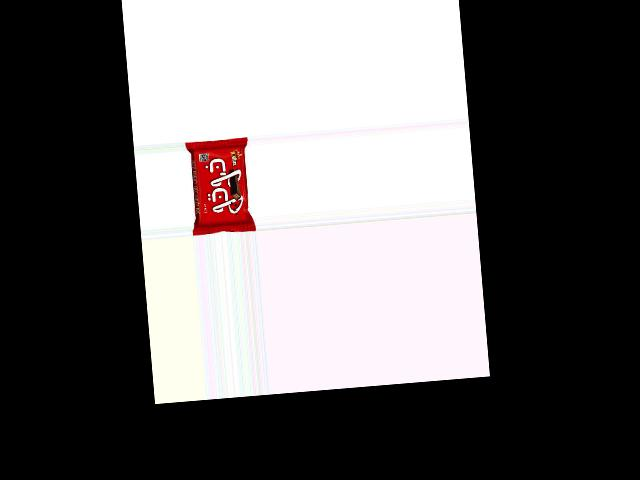chocolate: (184, 137, 255, 235)
